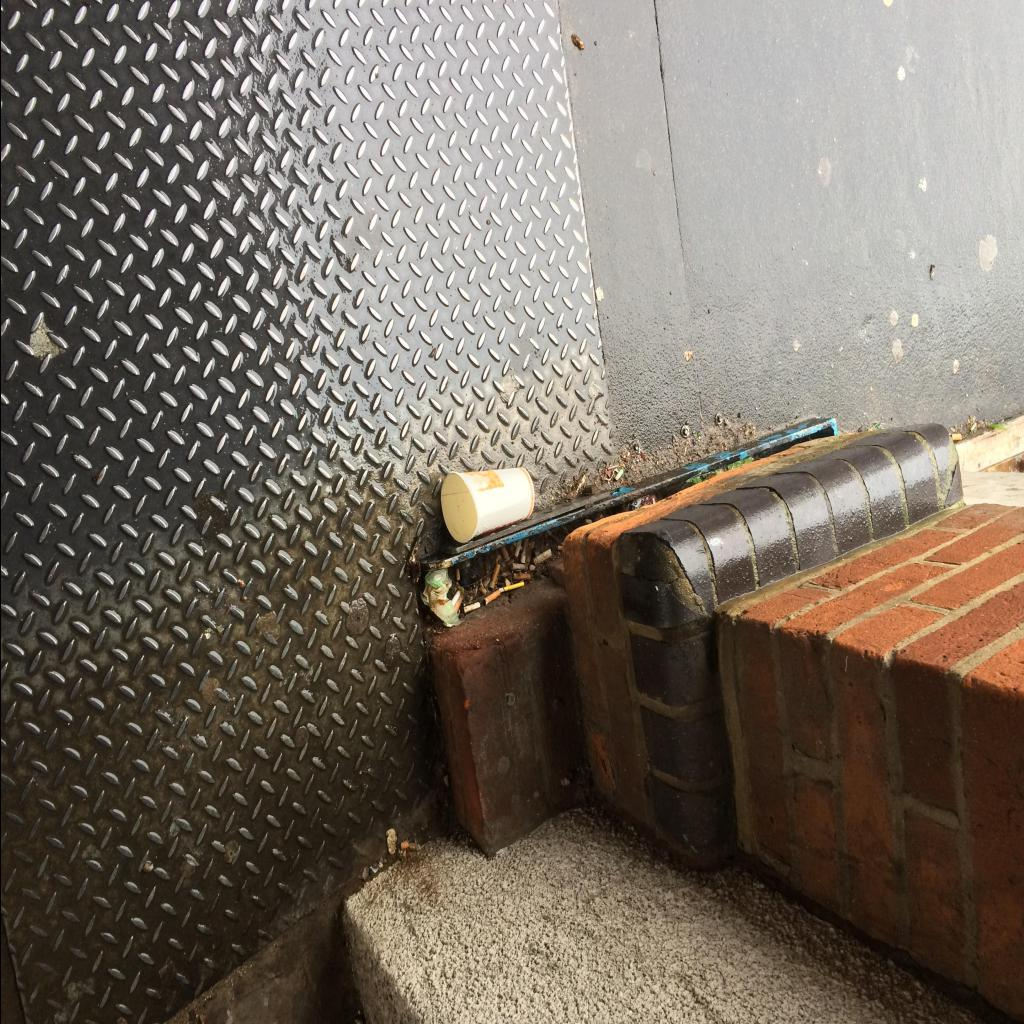Cigarette: (487, 565, 499, 590), (482, 590, 500, 606), (532, 549, 550, 565), (462, 602, 480, 614), (519, 540, 527, 562), (449, 590, 459, 606), (510, 564, 534, 570), (498, 547, 508, 561), (512, 540, 520, 556), (453, 598, 461, 613), (511, 574, 529, 580), (510, 542, 520, 552), (950, 435, 962, 441), (454, 568, 458, 580), (400, 843, 408, 849)
Paper cup: (440, 467, 534, 542)
Unlabeled litter: (420, 568, 464, 626)
